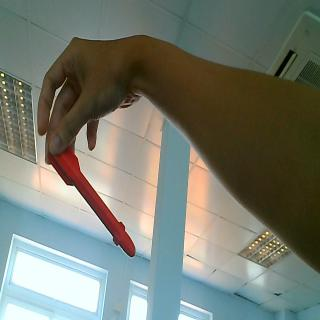Rocket: (48, 145, 136, 258)
